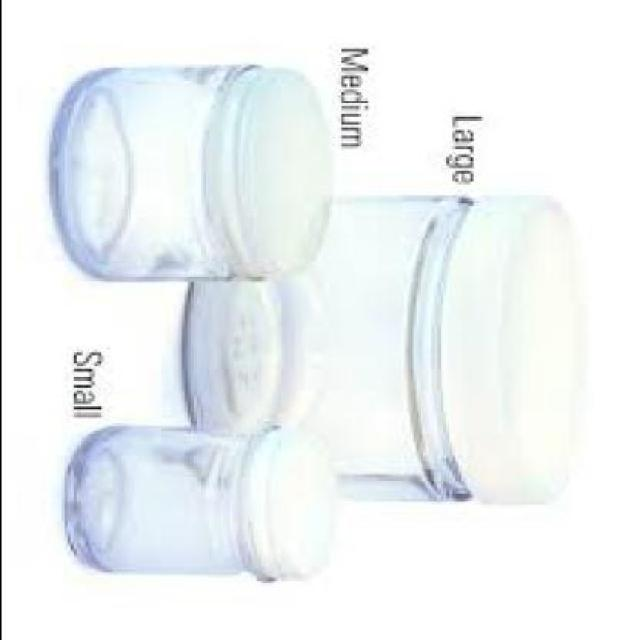GLASS: (183, 192, 482, 498), (60, 59, 255, 279), (66, 423, 274, 577)
PLASTIC: (442, 196, 586, 504), (214, 65, 331, 277), (247, 424, 339, 574)
